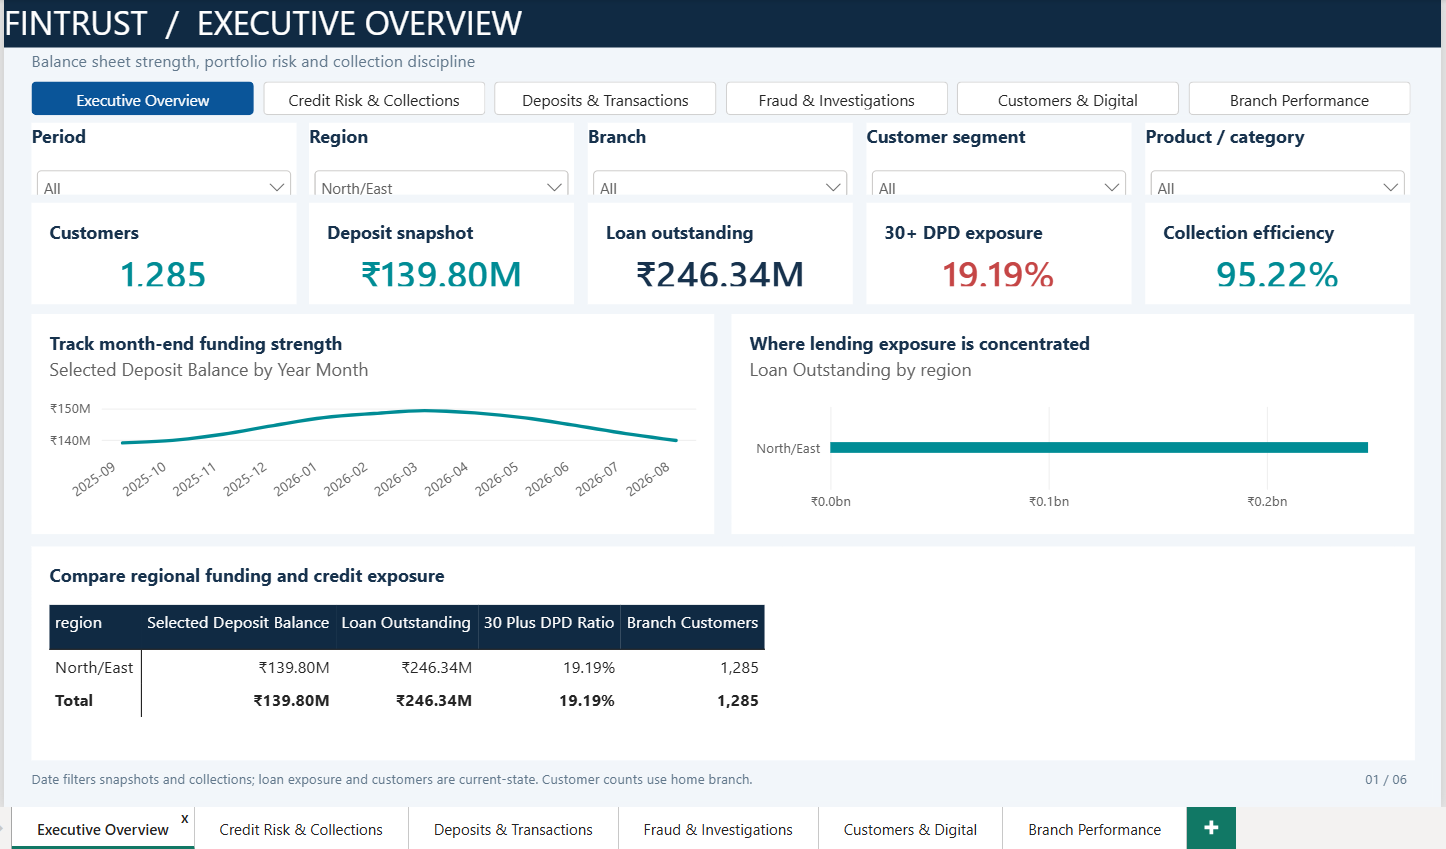

What the dashboard file says about the page in this screenshot:
{"tool":"powerbi","page":{"name":"Executive Overview","canvas":[1280,720],"ordinal":0},"visuals":[{"type":"textbox","box":[0,0,1280,43],"z":18},{"type":"textbox","box":[24,45,1232,26],"z":18},{"type":"pageNavigator","box":[24,74,1232,30],"z":18},{"type":"slicer","title":"Period","fields":{"Values":["Date.Year Month"]},"box":[24,110,236,64],"z":18},{"type":"slicer","title":"Region","fields":{"Values":["branches.region"]},"box":[272,110,236,64],"z":18},{"type":"slicer","title":"Branch","fields":{"Values":["branches.branch_name"]},"box":[520,110,236,64],"z":18},{"type":"slicer","title":"Customer segment","fields":{"Values":["customers.occupation_segment"]},"box":[768,110,236,64],"z":18},{"type":"slicer","title":"Product / category","fields":{"Values":["accounts.account_type"]},"box":[1016,110,236,64],"z":18},{"type":"card","title":"Customers","fields":{"Values":["customers.Branch Customers"]},"box":[24,182,236,90],"z":18},{"type":"card","title":"Deposit snapshot","fields":{"Values":["monthly_balances.Selected Deposit Balance"]},"box":[272,182,236,90],"z":18},{"type":"card","title":"Loan outstanding","fields":{"Values":["loans.Loan Outstanding"]},"box":[520,182,236,90],"z":18},{"type":"card","title":"30+ DPD exposure","fields":{"Values":["loans.30 Plus DPD Ratio"]},"box":[768,182,236,90],"z":18},{"type":"card","title":"Collection efficiency","fields":{"Values":["loan_payments.Collection Efficiency"]},"box":[1016,182,236,90],"z":18},{"type":"lineChart","title":"Track month-end funding strength","fields":{"Category":["Date.Year Month"],"Y":["monthly_balances.Selected Deposit Balance"]},"box":[24,280,608,196],"z":18},{"type":"clusteredBarChart","title":"Where lending exposure is concentrated","fields":{"Category":["branches.region"],"Y":["loans.Loan Outstanding"]},"box":[648,280,608,196],"z":18},{"type":"pivotTable","title":"Compare regional funding and credit exposure","fields":{"Rows":["branches.region"],"Values":["monthly_balances.Selected Deposit Balance","loans.Loan Outstanding","loans.30 Plus DPD Ratio","customers.Branch Customers"]},"box":[24,488,1232,190],"z":18},{"type":"textbox","box":[24,684,1190,30],"z":18},{"type":"textbox","box":[1212,684,60,30],"z":18}]}

Visuals, with their boxes on the page's 1280x720 design canvas (x1, y1, x2, y2). These are canvas units, not pixel positions in the 1446x849 screenshot, which may show the page scaled, cropped or inside an application window:
textbox: (0, 0, 1280, 43)
textbox: (24, 45, 1256, 71)
pageNavigator: (24, 74, 1256, 104)
"Period" slicer: (24, 110, 260, 174)
"Region" slicer: (272, 110, 508, 174)
"Branch" slicer: (520, 110, 756, 174)
"Customer segment" slicer: (768, 110, 1004, 174)
"Product / category" slicer: (1016, 110, 1252, 174)
"Customers" card: (24, 182, 260, 272)
"Deposit snapshot" card: (272, 182, 508, 272)
"Loan outstanding" card: (520, 182, 756, 272)
"30+ DPD exposure" card: (768, 182, 1004, 272)
"Collection efficiency" card: (1016, 182, 1252, 272)
"Track month-end funding strength" lineChart: (24, 280, 632, 476)
"Where lending exposure is concentrated" clusteredBarChart: (648, 280, 1256, 476)
"Compare regional funding and credit exposure" pivotTable: (24, 488, 1256, 678)
textbox: (24, 684, 1214, 714)
textbox: (1212, 684, 1272, 714)
